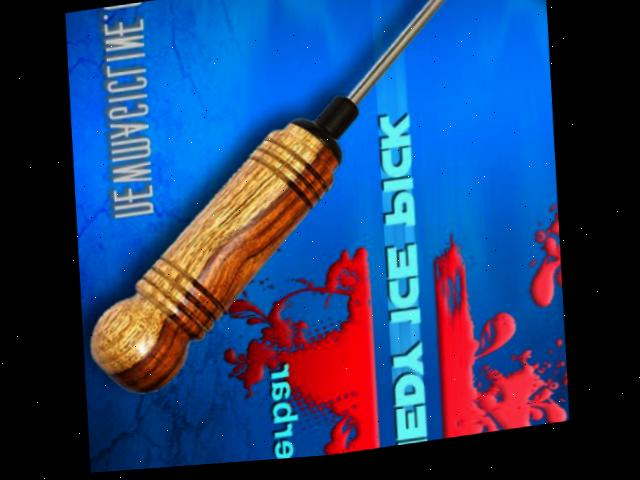ice pick: (65, 0, 553, 402)
